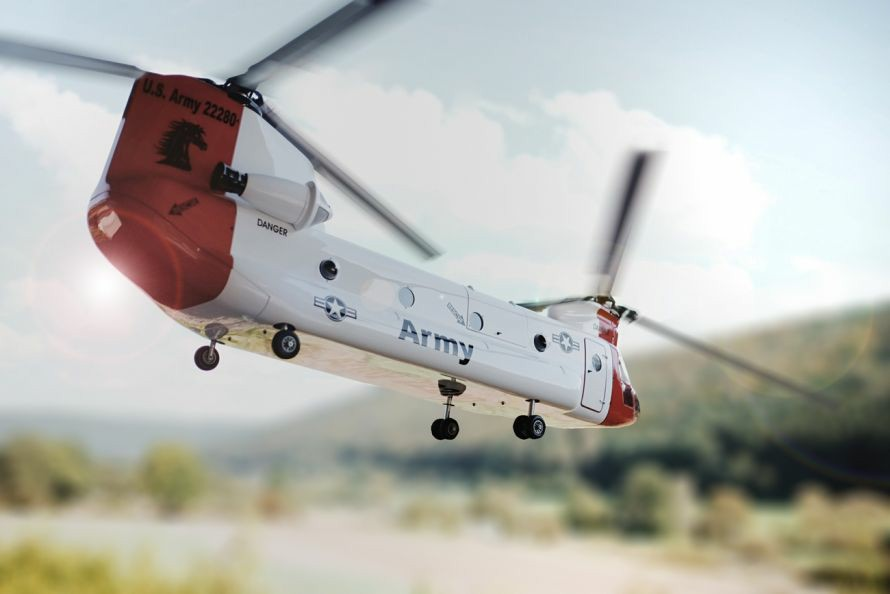chinook: (76, 42, 666, 445)
